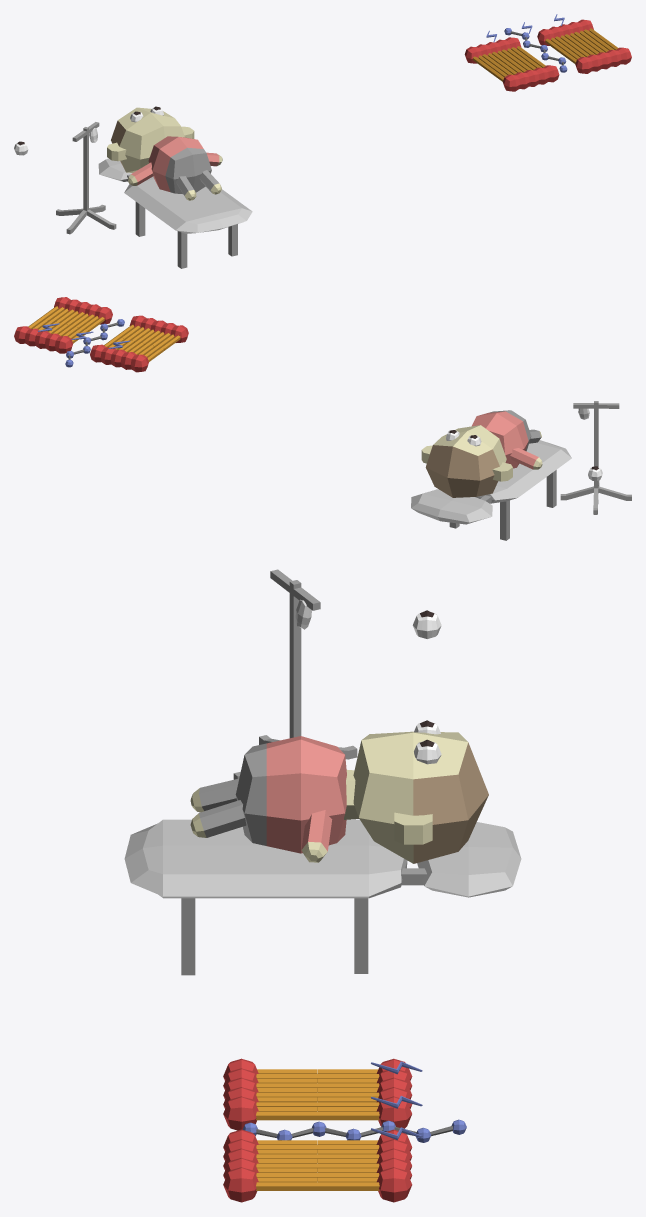
The model's file is eye.fbx.
The picture shows the model from 3 angles, top to bottom: view 1: azimuth 30°, elevation 25°; view 2: azimuth 150°, elevation 25°; view 3: azimuth 270°, elevation 25°; orthographic projection. The views are drawn at different scales.
Visible parts, largest first — view 1: Cube.007, Cube.003, Cube, Cube.001, Cube.013, Cube.012, Cube.002, Cube.011, Cube.009, Cylinder.002, Cylinder.001, Cube.006 (+2 smaller); view 2: Cube, Cube.007, Cube.006, Cube.003, Cube.012, Cube.002, Cube.013, Cube.001, Cube.011, RandomAMP(Can'tHarmMirrorLife), Cube.004, Cube.010 (+2 smaller); view 3: Cube.007, Cube, Cube.003, Cube.001, Cube.013, Cube.002, Cube.006, Cube.012, Cube.011, Cylinder.002, RandomAMP(Can'tHarmMirrorLife), Cylinder.001 (+3 smaller).
Part boxes in pixels (x1,y1,x2,y2): Cube.007: (124, 176, 252, 233); Cube.003: (148, 136, 211, 193); Cube: (111, 107, 184, 172); Cube.001: (561, 39, 631, 73); Cube.013: (488, 57, 559, 91); Cube.012: (464, 37, 534, 70); Cube.002: (537, 19, 606, 53); Cube.011: (56, 122, 116, 234); Cube.009: (177, 224, 237, 268); Cylinder.002: (176, 170, 221, 200); Cylinder.001: (128, 152, 222, 185); Cube.006: (98, 158, 132, 181); Cube: (425, 425, 506, 497); Cube.007: (475, 440, 571, 503); Cube.006: (411, 489, 492, 524); Cube.003: (472, 410, 531, 468); Cube.012: (90, 336, 163, 372); Cube.002: (14, 318, 88, 353); Cube.013: (116, 315, 188, 350); Cube.001: (40, 297, 112, 331); Cube.011: (560, 401, 631, 514); RandomAMP(Can'tHarmMirrorLife): (65, 319, 124, 367); Cube.004: (421, 445, 512, 481); Cube.010: (449, 500, 509, 540); Cube.007: (124, 819, 407, 898); Cube: (353, 731, 488, 863); Cube.003: (235, 736, 346, 853); Cube.001: (223, 1129, 317, 1202); Cube.013: (223, 1058, 317, 1130); Cube.002: (317, 1129, 412, 1202); Cube.006: (417, 822, 521, 897); Cube.012: (317, 1058, 412, 1128); Cube.011: (233, 569, 357, 779); Cylinder.002: (190, 778, 246, 837); RandomAMP(Can'tHarmMirrorLife): (242, 1119, 466, 1142); Cylinder.001: (301, 810, 332, 862).
Bounding box in the file's own units: 3230 × 739 × 975.
